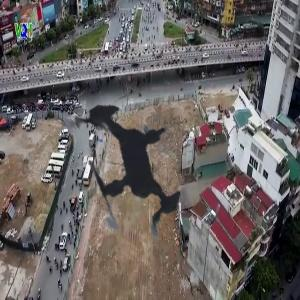drone: (20, 54, 250, 284)
